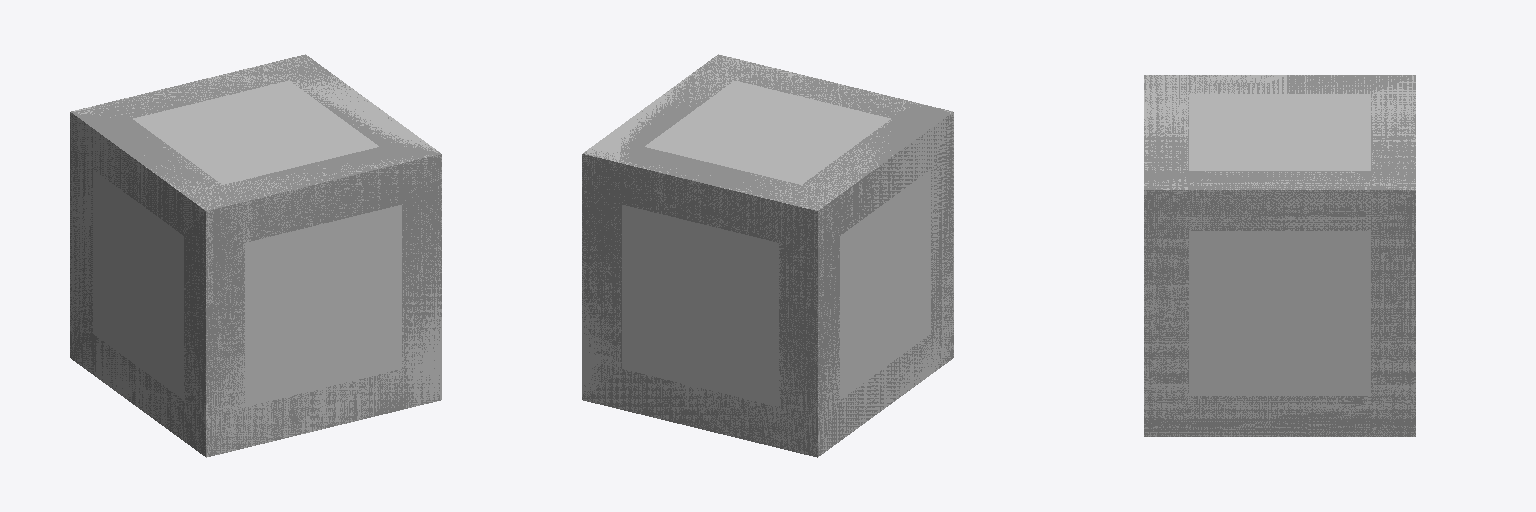
Rendered from bloc.obj.
The picture shows the model from 3 angles: view 1: azimuth 30°, elevation 25°; view 2: azimuth 150°, elevation 25°; view 3: azimuth 270°, elevation 25°; orthographic projection.
Parts seen in each view (by area): view 1: COLLISION_Cube.001, Cube.001; view 2: COLLISION_Cube.001, Cube.001; view 3: COLLISION_Cube.001, Cube.001.
Part boxes in pixels (bbox=[...]): COLLISION_Cube.001: bbox=[70, 54, 441, 457]; Cube.001: bbox=[70, 55, 441, 456]; COLLISION_Cube.001: bbox=[582, 54, 953, 456]; Cube.001: bbox=[582, 55, 953, 457]; COLLISION_Cube.001: bbox=[1144, 75, 1415, 436]; Cube.001: bbox=[1144, 75, 1415, 436].
Bounding box in the file's own units: 2 × 2 × 2.